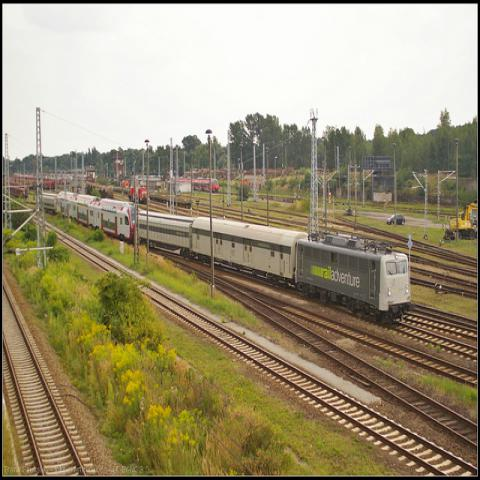car: (386, 214, 406, 225)
truck: (449, 203, 477, 243)
